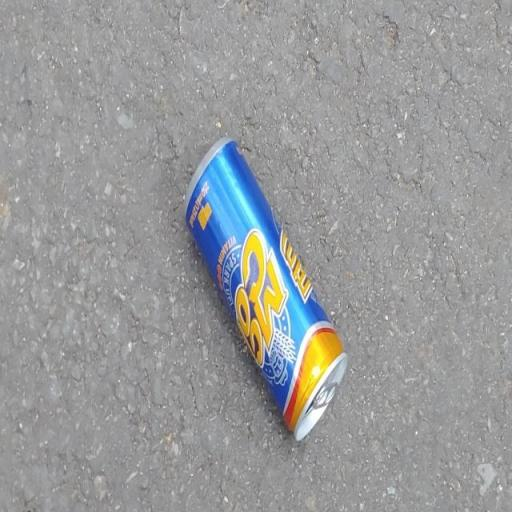metal: (153, 101, 365, 490)
